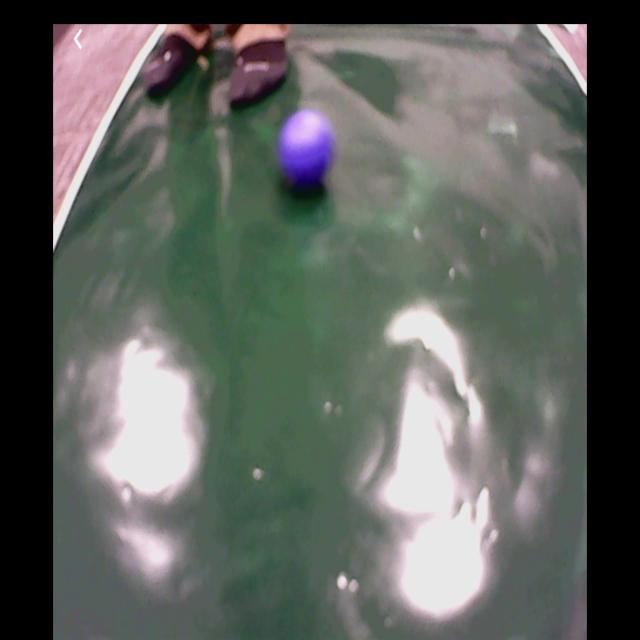ball: (281, 113, 334, 187)
